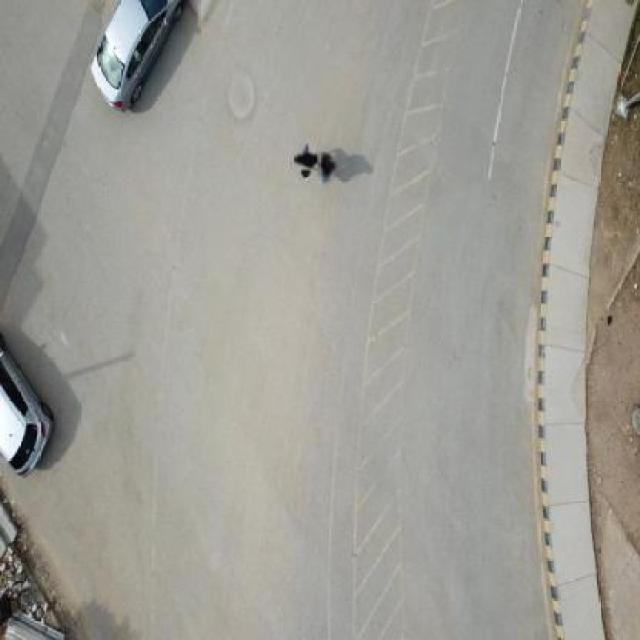Person: (294, 149, 321, 176), (318, 152, 337, 186)
